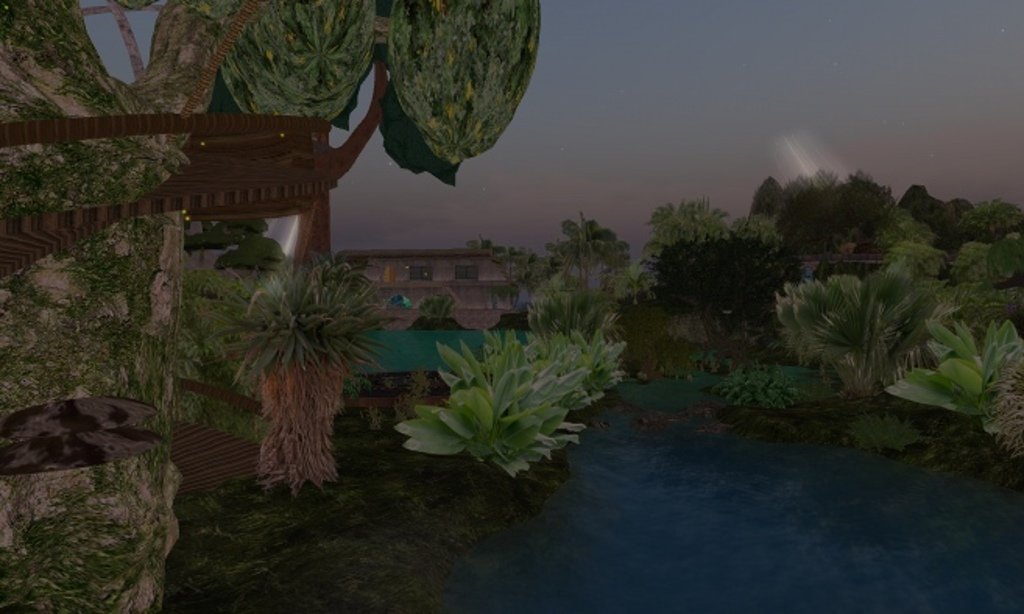Tree: (0, 0, 537, 613)
